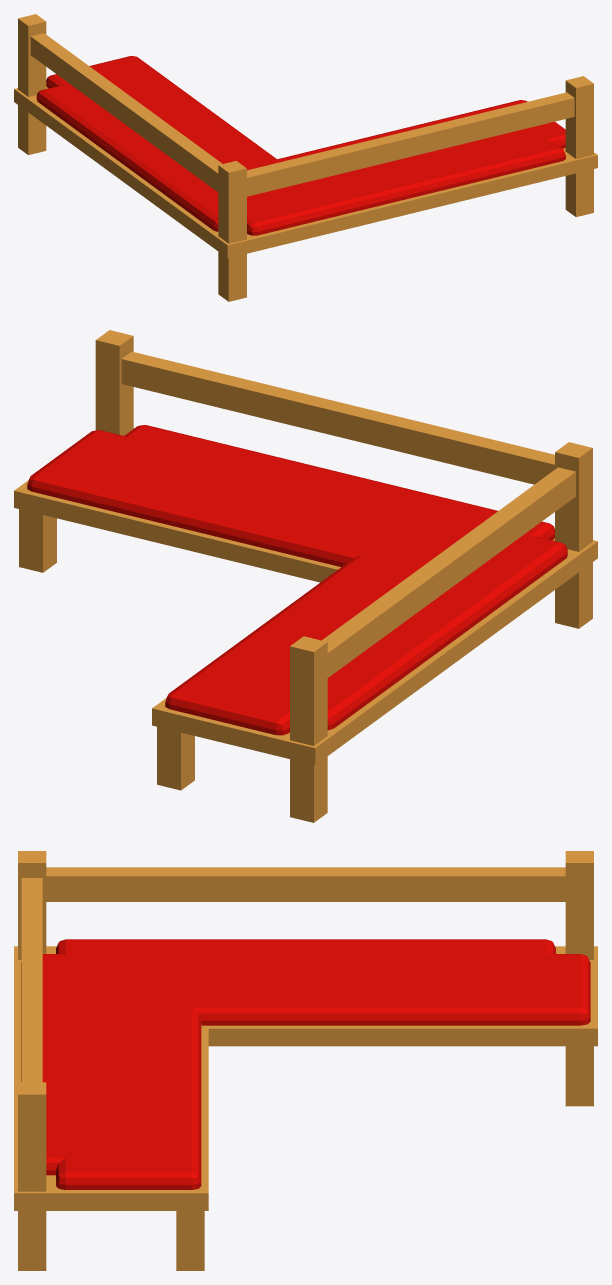
The model's file is corner_bench.fbx.
3 renders of one model, top to bottom at view 1: azimuth 30°, elevation 25°; view 2: azimuth 150°, elevation 25°; view 3: azimuth 270°, elevation 25°, orthographic. The views are drawn at different scales.
Visible parts, largest first — view 1: Cube.004; view 2: Cube.004; view 3: Cube.004.
Boxes of the visible parts, x1=… form: Cube.004: x1=14, y1=14, x2=597, y2=301; Cube.004: x1=14, y1=330, x2=597, y2=822; Cube.004: x1=14, y1=851, x2=597, y2=1270.
Size of the model in its own units: 150 by 50 by 150.
